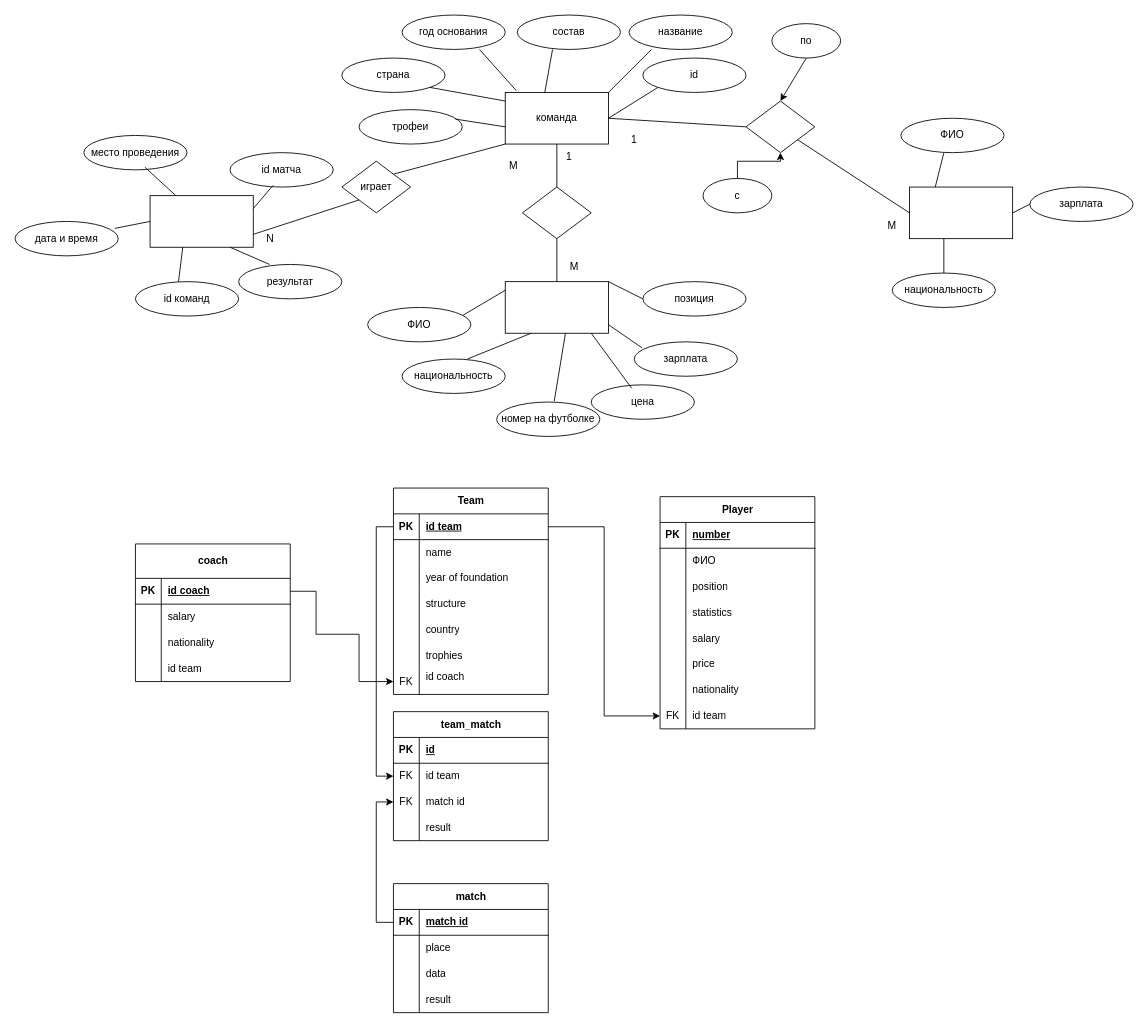
Image size: 1148x1028. Some labels were removed from this diagram. The shapes that lost their labels are listed below. From the top down, each one's centre as x and y in pixels, then its label:
pixel 780 126: руководит
pixel 201 221: матч
pixel 556 212: Относится
pixel 961 212: тренер
pixel 556 307: игрок
